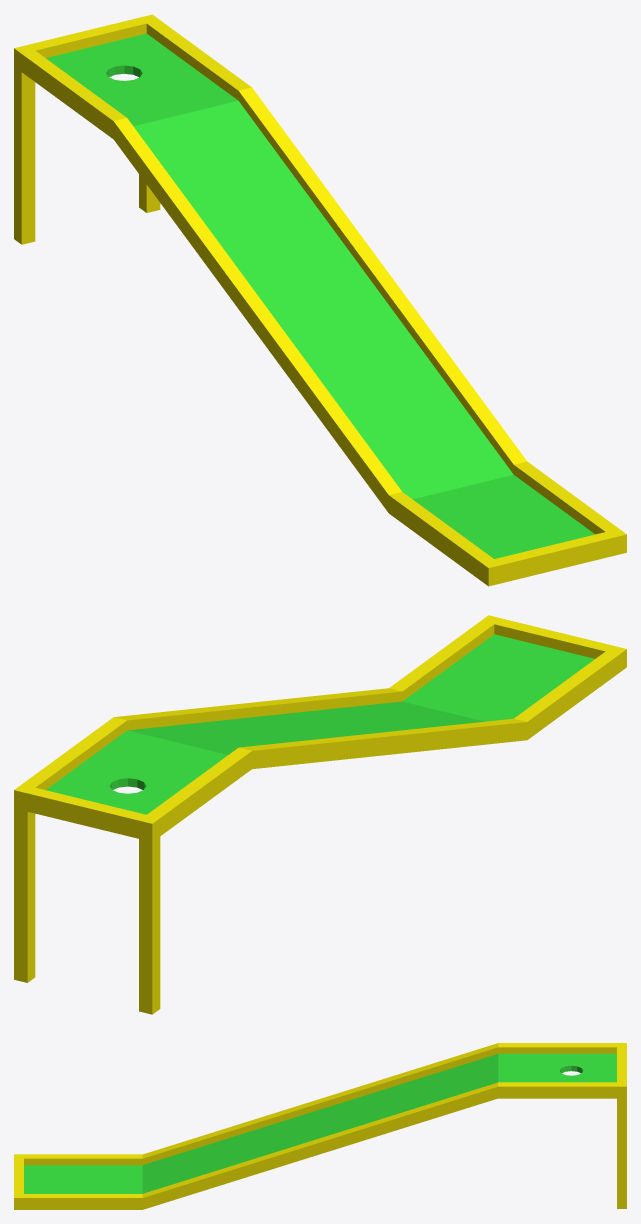
Rendered from Bahn3.fbx.
3 views of the same model, one above another, from view 1: azimuth 30°, elevation 25°; view 2: azimuth 150°, elevation 25°; view 3: azimuth 270°, elevation 25° (orthographic). The views are drawn at different scales.
Visible parts, largest first — view 1: BahnF5; view 2: BahnF5; view 3: BahnF5.
Boxes of the visible parts, x1,y1,x2,y2 form: BahnF5: (14,14,626,586); BahnF5: (14,615,626,1014); BahnF5: (14,1043,626,1209).
Size of the model in its own units: 87 by 115 by 517.
